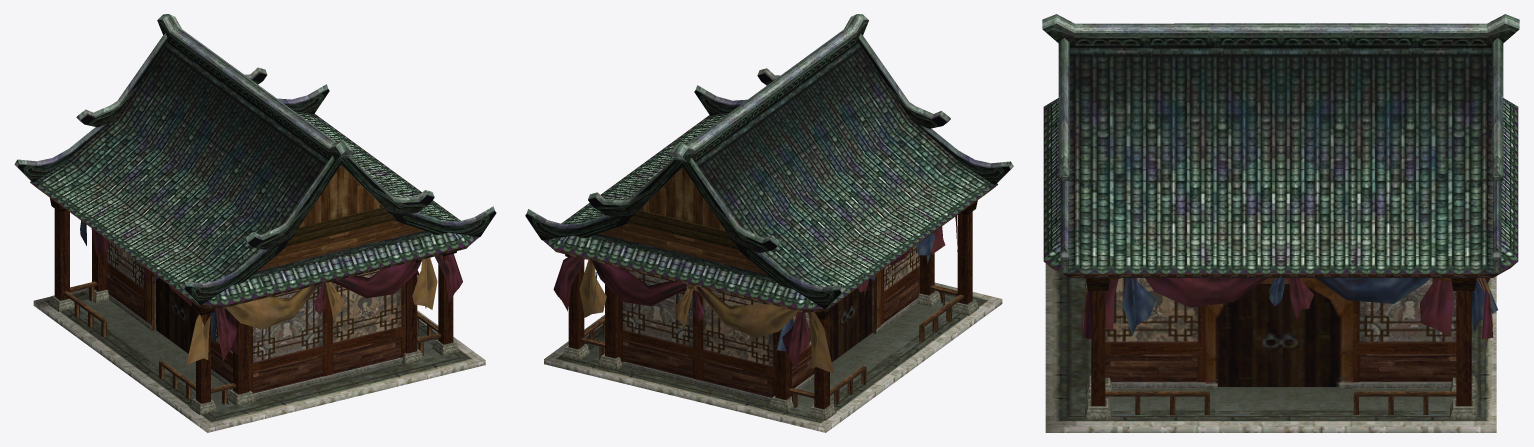
File: c1-032-shamanhouse.glb
3 renders of one model, left to right at view 1: azimuth 30°, elevation 25°; view 2: azimuth 150°, elevation 25°; view 3: azimuth 270°, elevation 25°, orthographic. The views are drawn at different scales.
Visible parts, largest first — view 1: 1; view 2: 1; view 3: 1.
Boxes of the visible parts, x1,y1,x2,y2 form: 1: (14,14,496,432); 1: (525,14,1013,432); 1: (1042,14,1519,432).
Bounding box in the file's own units: 9.89 × 7.73 × 10.11.
Materials: 3 (3 with a texture image).
